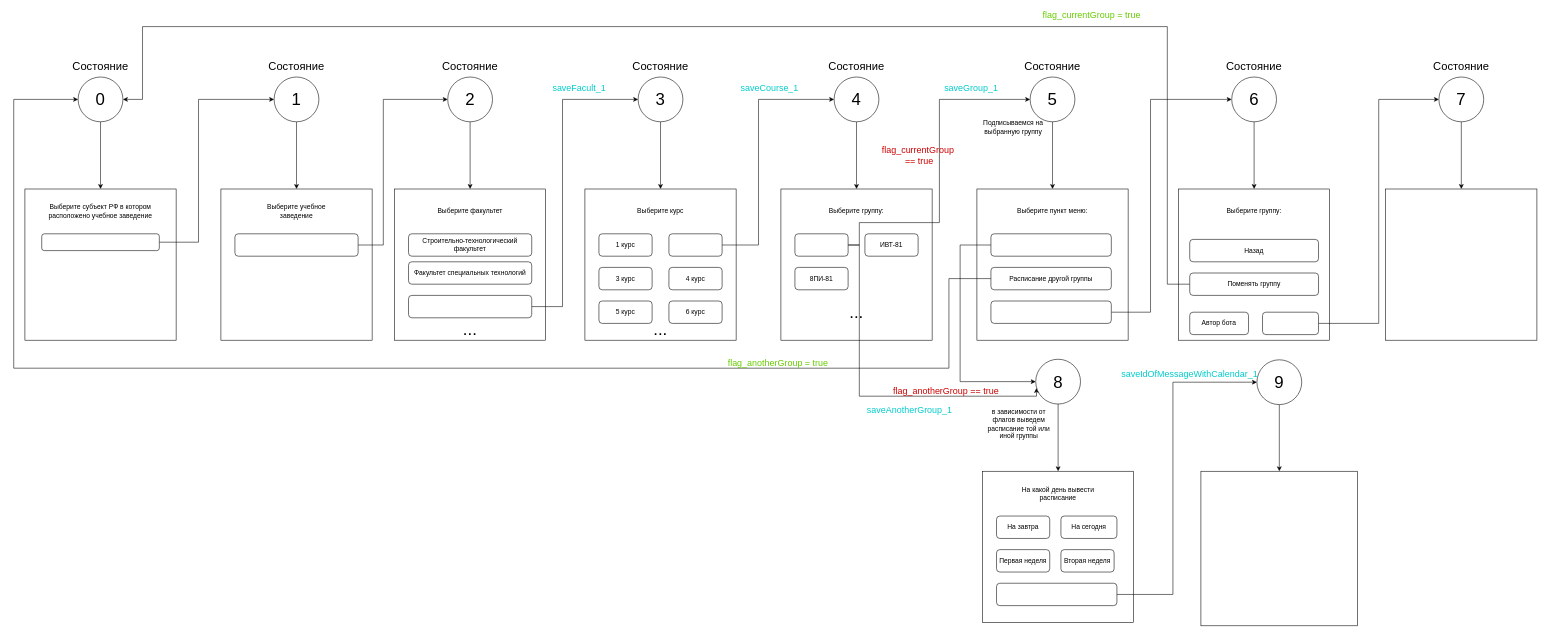
The diagram is 1547 pixels wide and 636 high, and some of its shapes have lost their labels. Here are the shapes that lost their labels. From the top down, the box of each, then its label:
(41, 233, 159, 251): Алтайский край
(234, 233, 358, 256): АлтГТУ - Алтайский государственный технический университет
(668, 233, 722, 256): 2 курс
(794, 233, 848, 256): ПИ-81
(990, 233, 1111, 256): Расписание моей группы
(1385, 188, 1537, 340): Внесите ваше предложение по улучшению бота:
(408, 295, 532, 318): Факультет информационных технологий
(990, 300, 1111, 323): Настройки
(1262, 312, 1319, 335): Обратная связь
(1200, 471, 1358, 626): Выводим календарь в виде кнопок
(996, 583, 1117, 606): Расписание на конкретную дату
